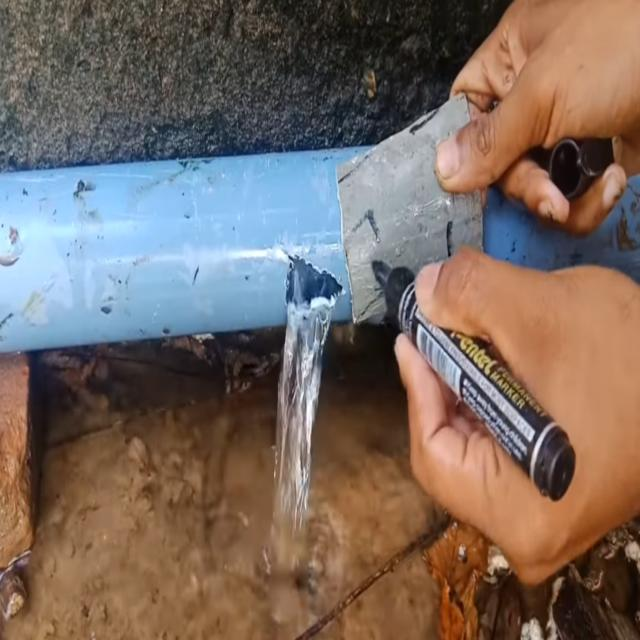leak: (274, 293, 336, 536)
